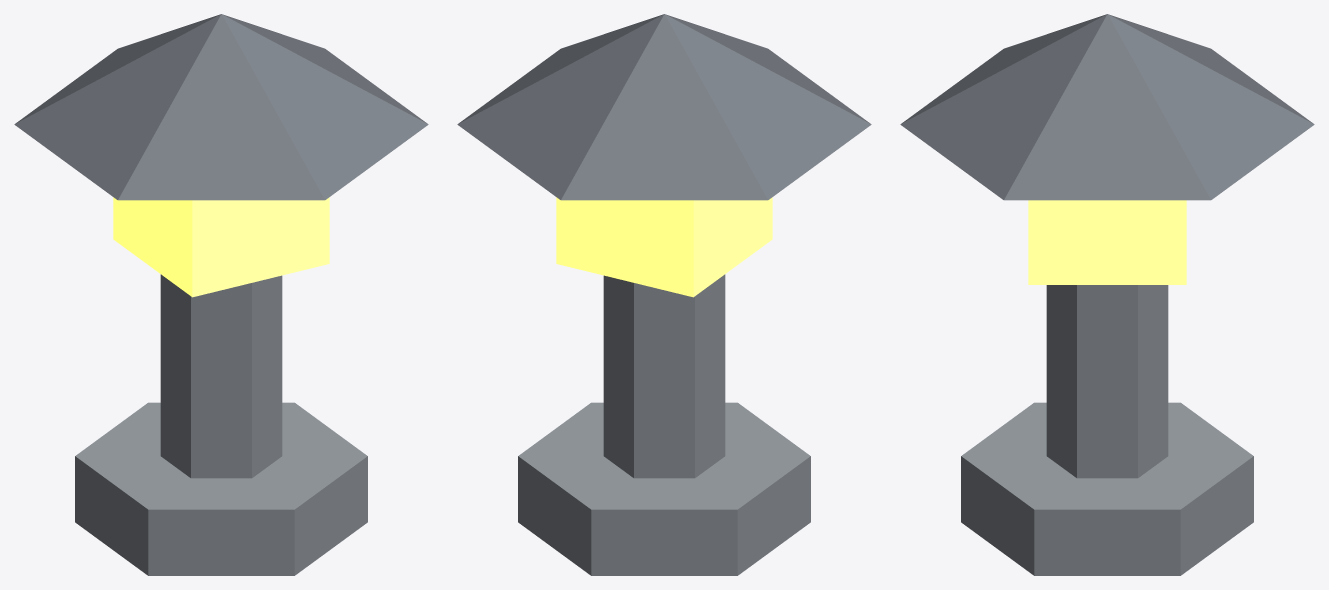
File: lantern.glb
3 views of the same model, side by side, from view 1: azimuth 30°, elevation 25°; view 2: azimuth 150°, elevation 25°; view 3: azimuth 270°, elevation 25° (orthographic).
Visible parts, largest first — view 1: Stone_Lantern; view 2: Stone_Lantern; view 3: Stone_Lantern.
Part boxes in pixels (x1=…): Stone_Lantern: x1=14, y1=14, x2=428, y2=575; Stone_Lantern: x1=457, y1=14, x2=871, y2=575; Stone_Lantern: x1=900, y1=14, x2=1314, y2=575.
Size of the model in its own units: 1.47 by 2.3 by 1.7.
